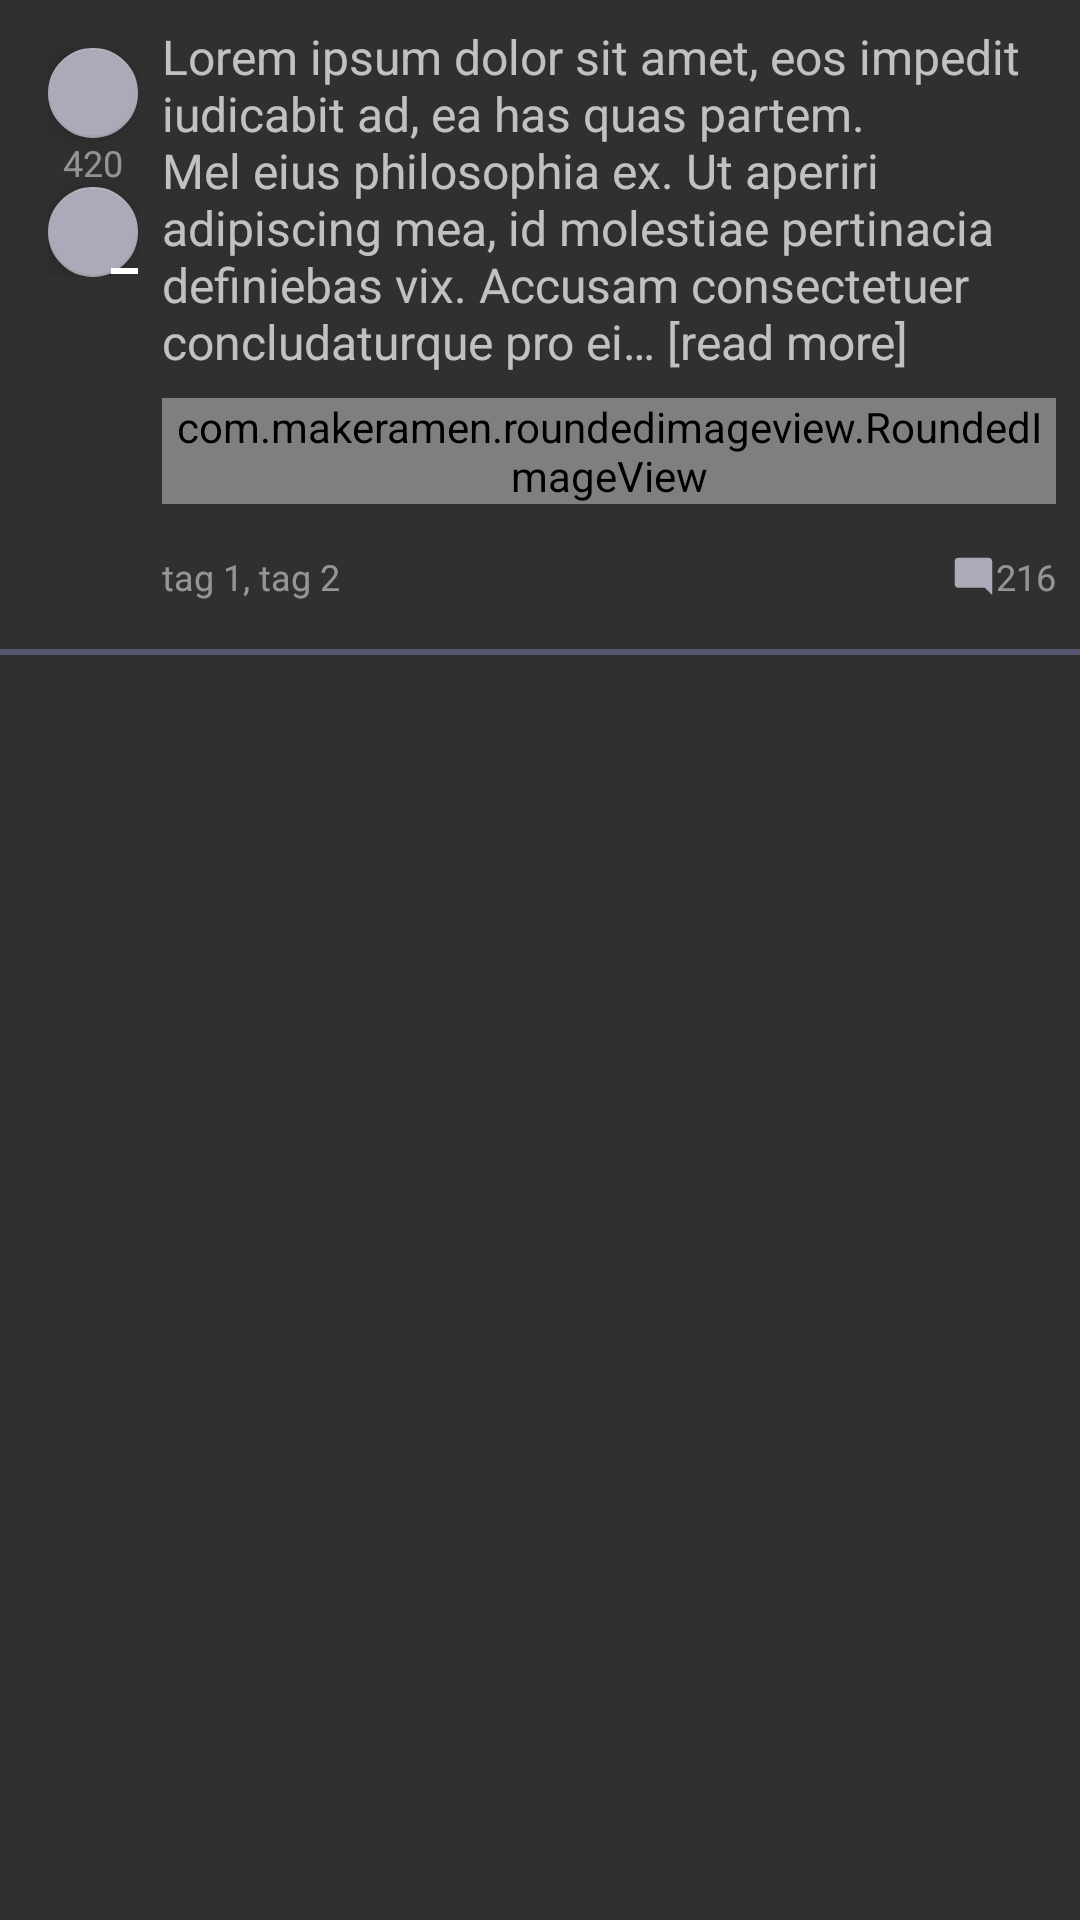

Icon bounding boxes for this 1080w x 1920h phone screenshot, format (x1, y1, x2, y2):
Comment: (954, 557, 993, 595)
